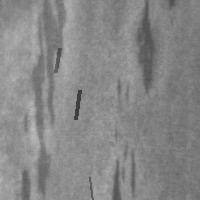inclusion: (18, 1, 71, 198), (110, 75, 139, 199), (134, 1, 158, 95), (166, 1, 179, 26), (73, 88, 81, 121), (53, 46, 61, 74), (87, 175, 94, 200)
